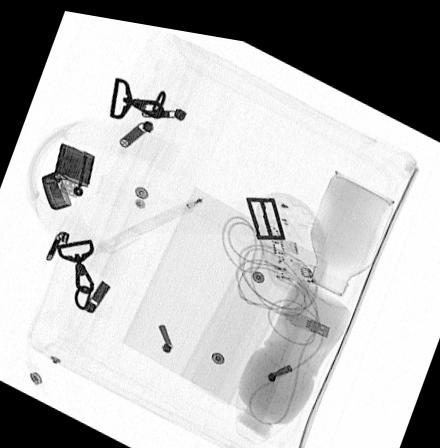Lighter: (41, 140, 95, 208)
